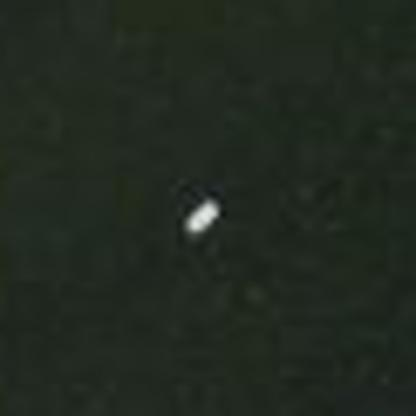ship: (176, 190, 228, 245)
